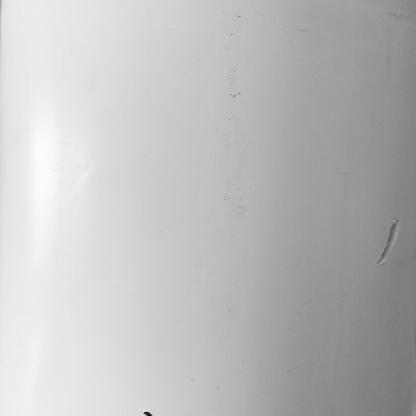sunshang: (370, 219, 404, 268)
